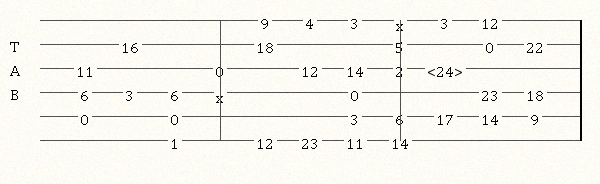0: (80, 109, 93, 123), (170, 109, 183, 123), (215, 61, 228, 75), (350, 85, 363, 99), (485, 37, 498, 51)
1: (170, 133, 183, 147)
11: (76, 61, 98, 75), (346, 133, 368, 147)
12: (256, 133, 278, 147), (301, 61, 323, 75), (481, 13, 503, 27)
14: (346, 61, 368, 75), (391, 133, 413, 147), (481, 109, 503, 123)
16: (121, 37, 143, 51)
17: (436, 109, 458, 123)
18: (256, 37, 278, 51), (526, 85, 548, 99)
2: (395, 61, 408, 75)
22: (526, 37, 548, 51)
23: (301, 133, 323, 147), (481, 85, 503, 99)
3: (125, 85, 138, 99), (350, 13, 363, 27), (350, 109, 363, 123), (440, 13, 453, 27)
4: (305, 13, 318, 27)
5: (395, 37, 408, 52)
6: (80, 85, 93, 99), (170, 85, 183, 99), (395, 109, 408, 123)
9: (260, 13, 273, 27), (530, 109, 543, 123)
harmonic: (427, 61, 467, 75)
x: (216, 87, 228, 98), (396, 15, 408, 26)
